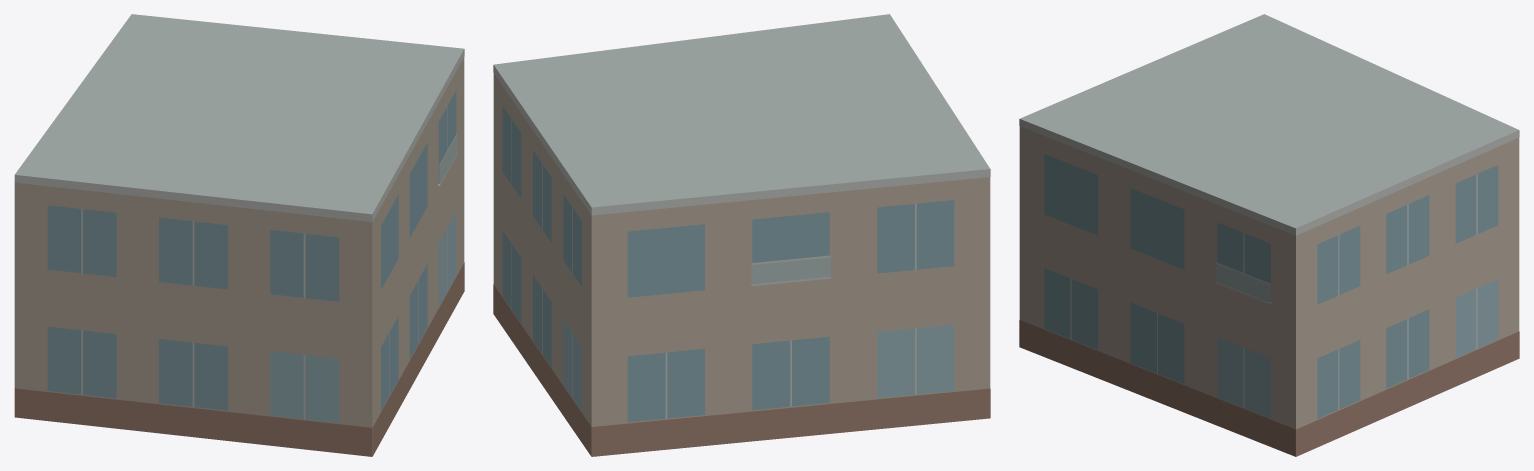
File: survey-upis-32892490.glb
3 renders of one model, left to right at view 1: azimuth 30°, elevation 25°; view 2: azimuth 150°, elevation 25°; view 3: azimuth 270°, elevation 25°, orthographic. The views are drawn at different scales.
Visible parts, largest first — view 1: survey-upis-32892490.tmp; view 2: survey-upis-32892490.tmp; view 3: survey-upis-32892490.tmp.
Part boxes in pixels (x1=…): survey-upis-32892490.tmp: x1=14, y1=14, x2=464, y2=456; survey-upis-32892490.tmp: x1=493, y1=14, x2=990, y2=456; survey-upis-32892490.tmp: x1=1019, y1=14, x2=1519, y2=456.
Bounding box in the file's own units: 15.31 × 7.6 × 15.08.
